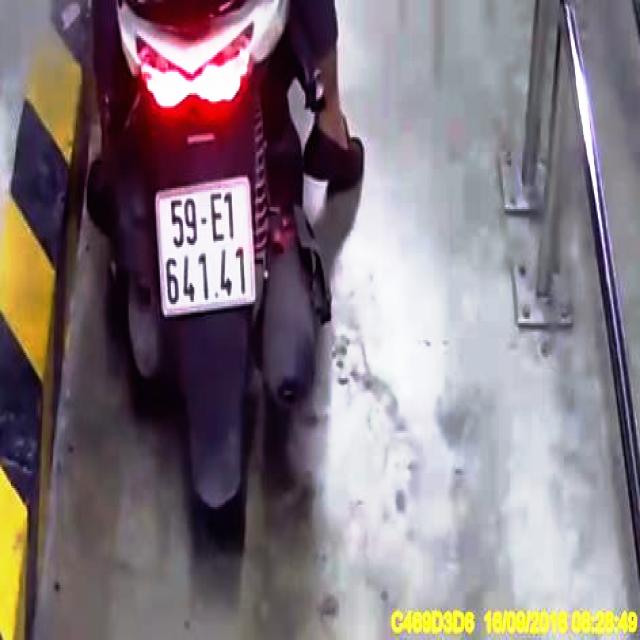license_plate: (156, 183, 257, 317)
